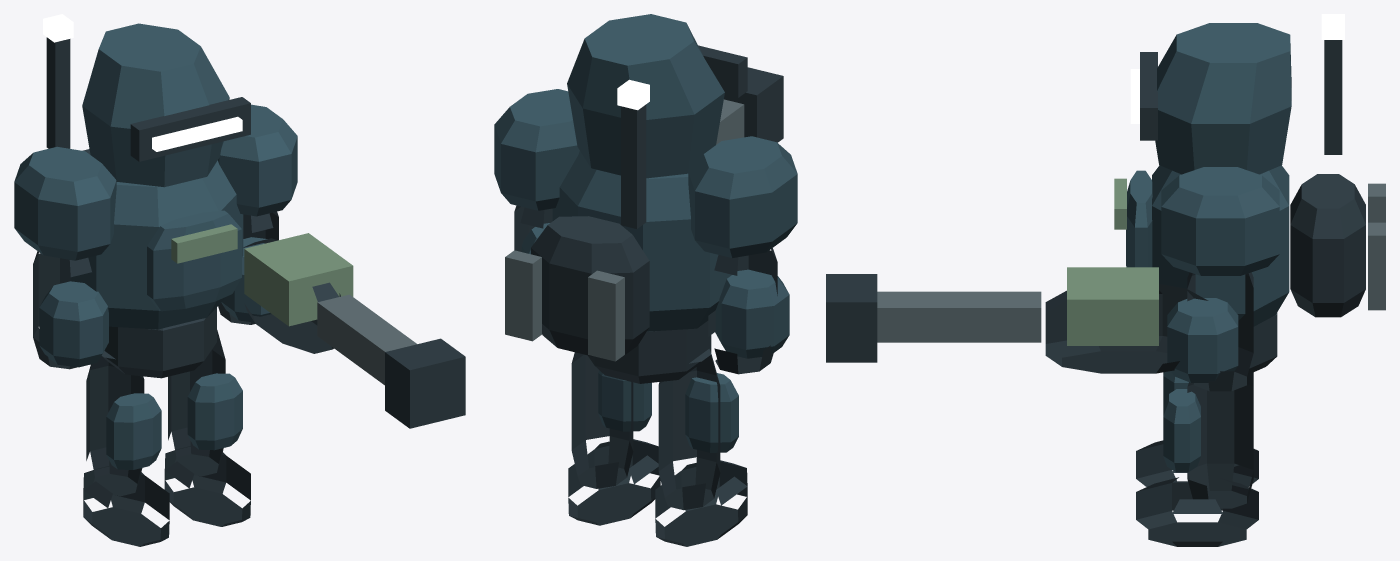
File: unit_ranger.glb
The picture shows the model from 3 angles, left to right: view 1: azimuth 30°, elevation 25°; view 2: azimuth 150°, elevation 25°; view 3: azimuth 270°, elevation 25°; orthographic projection. The views are drawn at different scales.
Visible parts, largest first — view 1: body, arm_r, arm_l, leg_l, leg_r, glow; view 2: body, arm_l, leg_l, arm_r, leg_r, glow; view 3: body, arm_r, leg_r, leg_l, glow.
Part boxes in pixels (x1=…): body: x1=46, y1=23, x2=250, y2=378; arm_r: x1=218, y1=104, x2=465, y2=428; arm_l: x1=14, y1=146, x2=116, y2=369; leg_l: x1=83, y1=351, x2=169, y2=546; leg_r: x1=164, y1=330, x2=250, y2=526; glow: x1=43, y1=14, x2=242, y2=151; body: x1=505, y1=14, x2=747, y2=383; arm_l: x1=688, y1=136, x2=797, y2=374; leg_l: x1=655, y1=349, x2=747, y2=546; arm_r: x1=494, y1=67, x2=783, y2=254; leg_r: x1=568, y1=352, x2=660, y2=525; glow: x1=617, y1=79, x2=649, y2=110; body: x1=1114, y1=23, x2=1385, y2=374; arm_r: x1=826, y1=167, x2=1279, y2=391; leg_r: x1=1136, y1=374, x2=1258, y2=546; leg_l: x1=1136, y1=371, x2=1258, y2=486; glow: x1=1130, y1=14, x2=1344, y2=123.
Bounding box in the file's own units: 0.6041 × 1.02 × 1.09.
